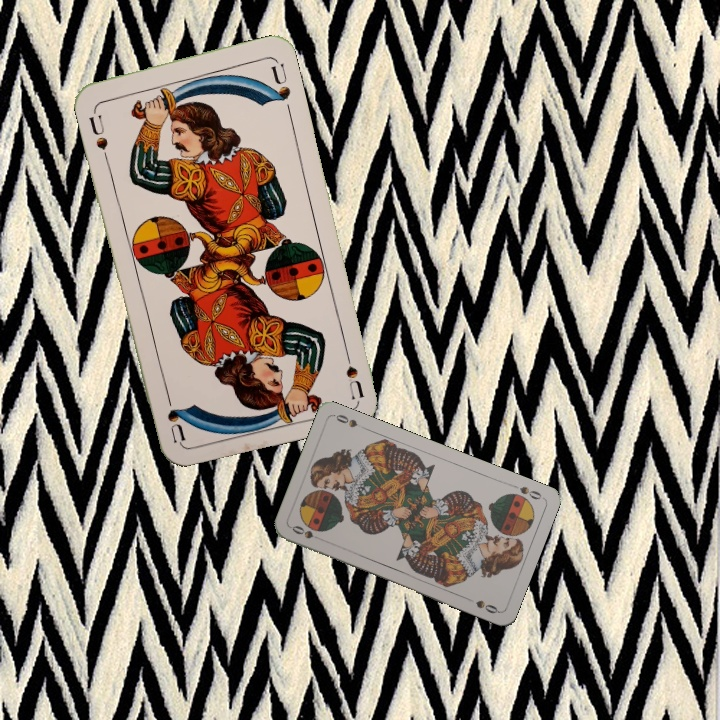SO: (287, 521, 326, 544), (516, 482, 544, 502)
SU: (340, 341, 366, 400), (84, 111, 111, 161)
